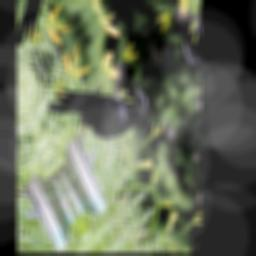Crow: (42, 31, 152, 179)
